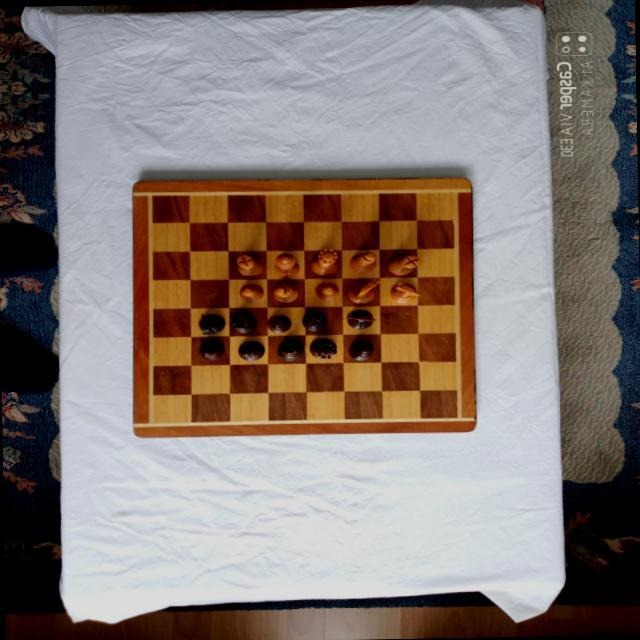black-bishop: (276, 339, 303, 359), (237, 340, 263, 360)
black-king: (347, 340, 374, 360)
black-knight: (345, 308, 375, 328), (198, 311, 224, 333)
black-pawn: (197, 339, 223, 359), (266, 313, 292, 331)
black-queen: (309, 338, 337, 358)
black-rook: (229, 312, 255, 332), (301, 311, 327, 330)
white-bishop: (348, 249, 376, 270), (271, 282, 298, 301)
white-king: (273, 251, 299, 277)
white-knight: (348, 276, 380, 303), (389, 279, 420, 301)
white-pawn: (238, 282, 263, 301), (314, 281, 338, 299)
white-queen: (310, 247, 338, 275)
white-rook: (387, 254, 419, 274), (236, 253, 264, 275)
